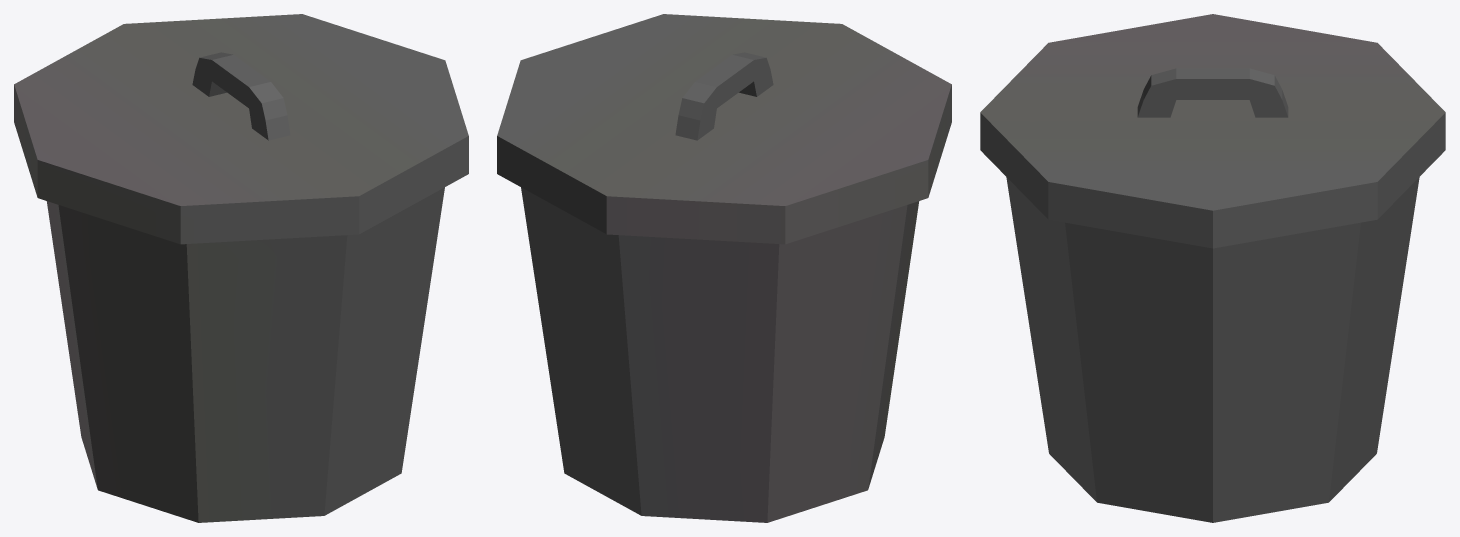
The model's file is TrashBin.fbx.
3 renders of one model, left to right at view 1: azimuth 30°, elevation 25°; view 2: azimuth 150°, elevation 25°; view 3: azimuth 270°, elevation 25°, orthographic.
Parts seen in each view (by area): view 1: Bin, Lid; view 2: Bin, Lid; view 3: Bin, Lid.
Boxes of the visible parts, left/top/right/bottom form: Bin: left=46, top=187, right=444, bottom=522; Lid: left=14, top=14, right=468, bottom=244; Bin: left=521, top=187, right=919, bottom=522; Lid: left=497, top=14, right=951, bottom=244; Bin: left=1006, top=177, right=1419, bottom=522; Lid: left=980, top=14, right=1445, bottom=248.
Bounding box in the file's own units: 114 × 102 × 114.
